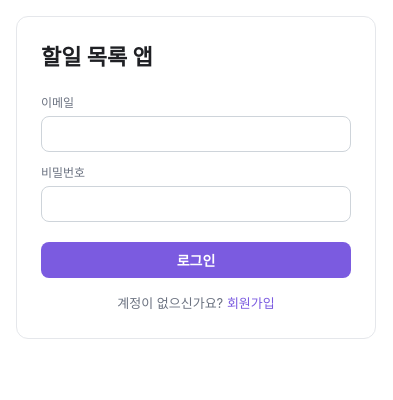
Scenario: LoginPage › 빈 폼 제출 → 이메일·비번 검증 에러 표시
Click the button "로그인". click: point(196, 260)
box: [41,242,351,278]
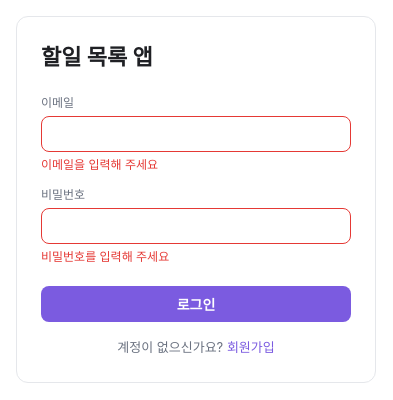
Now the text "이메일을 입력해 주세요" is shown, box [41,157,158,172]
Now the text "비밀번호를 입력해 주세요" is shown, box [41,249,169,264]
